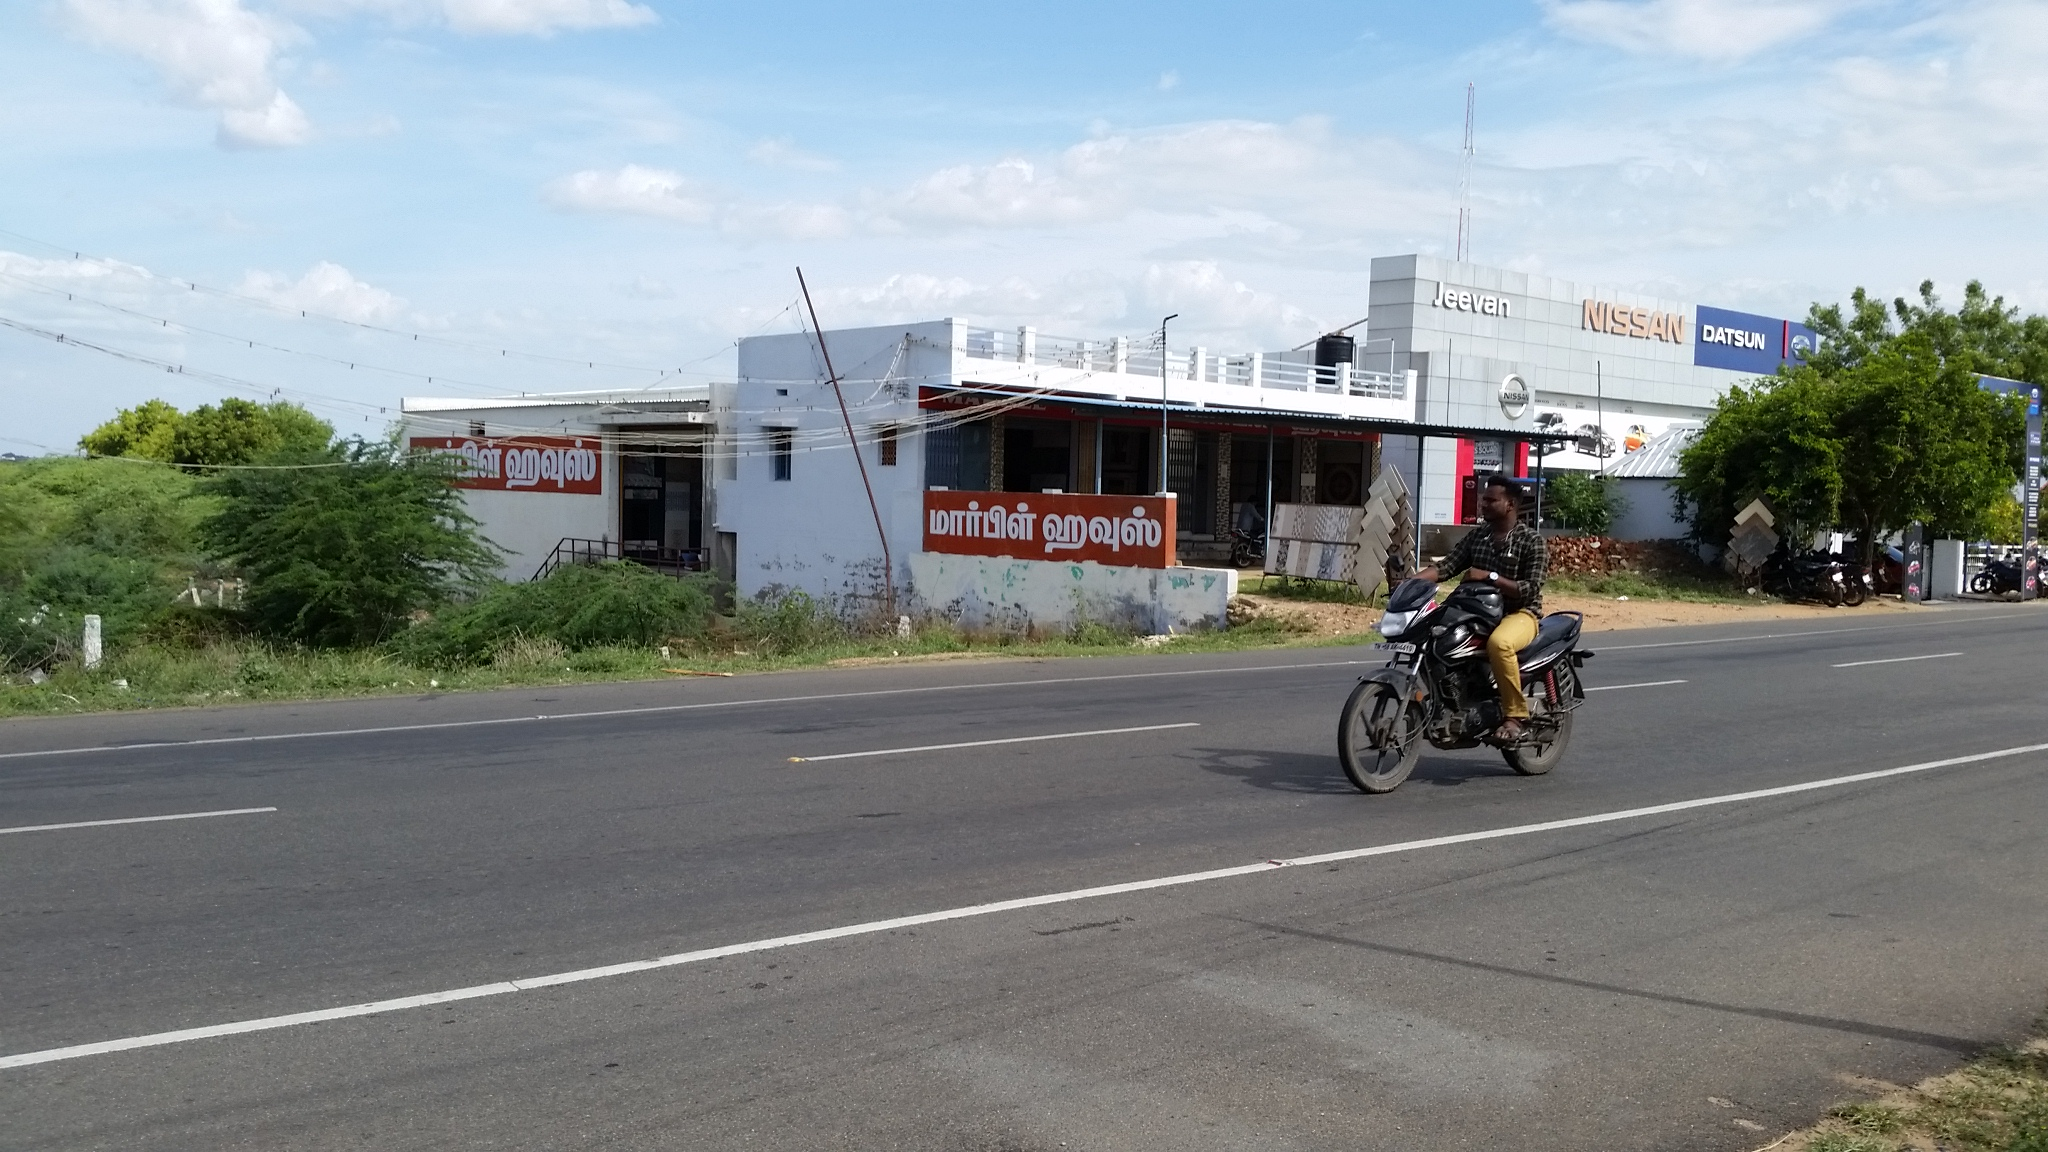biker: (1299, 372, 1642, 860)
nohelmet: (1462, 469, 1549, 544)
